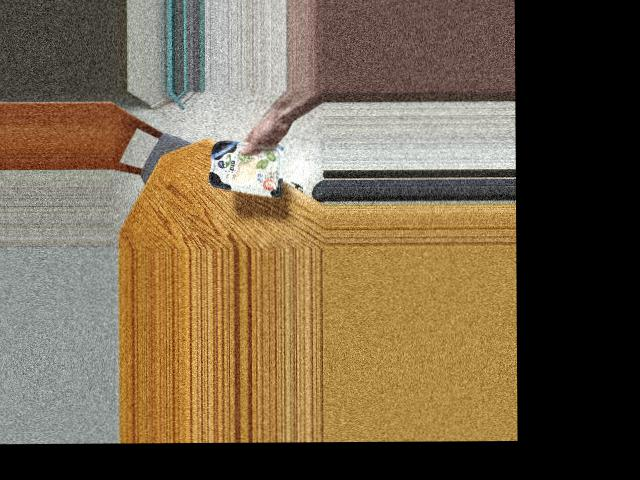cheese: (211, 140, 278, 193)
